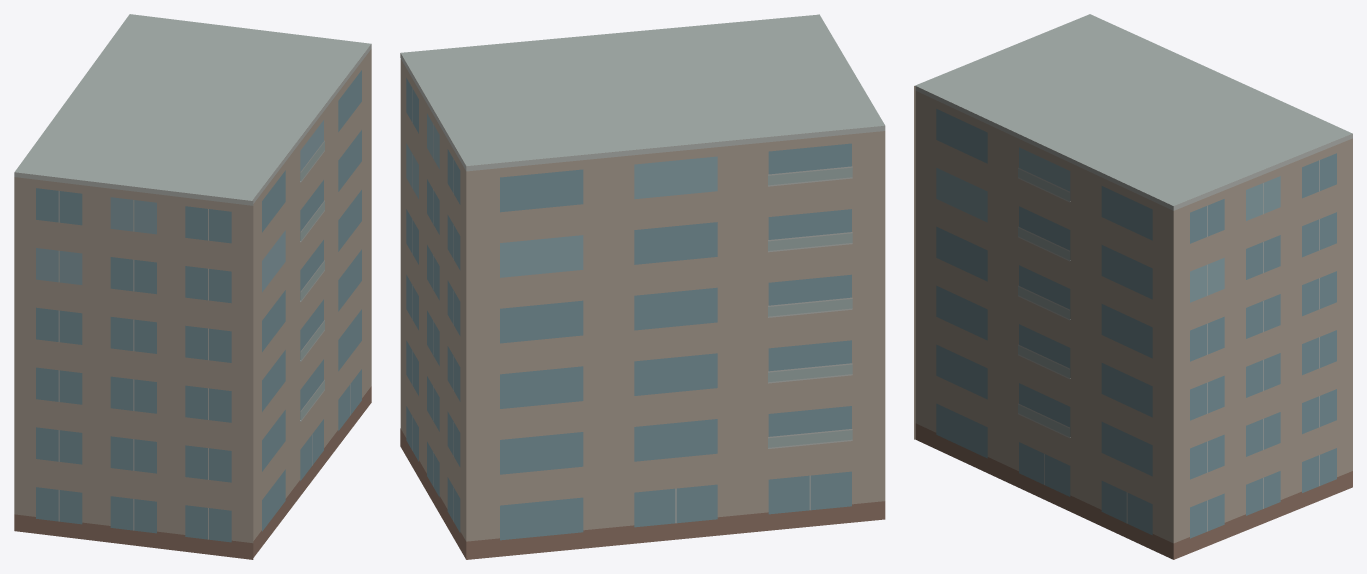
Rendered from survey-upis-33043259.glb.
3 renders of one model, left to right at view 1: azimuth 30°, elevation 25°; view 2: azimuth 150°, elevation 25°; view 3: azimuth 270°, elevation 25°, orthographic. The views are drawn at different scales.
Parts seen in each view (by area): view 1: survey-upis-33043259.tmp; view 2: survey-upis-33043259.tmp; view 3: survey-upis-33043259.tmp.
Boxes of the visible parts, <box> form: survey-upis-33043259.tmp: <box>14,14,371,559</box>; survey-upis-33043259.tmp: <box>400,14,885,559</box>; survey-upis-33043259.tmp: <box>914,14,1352,559</box>.
Size of the model in its own units: 21.33 by 18.3 by 20.58.
